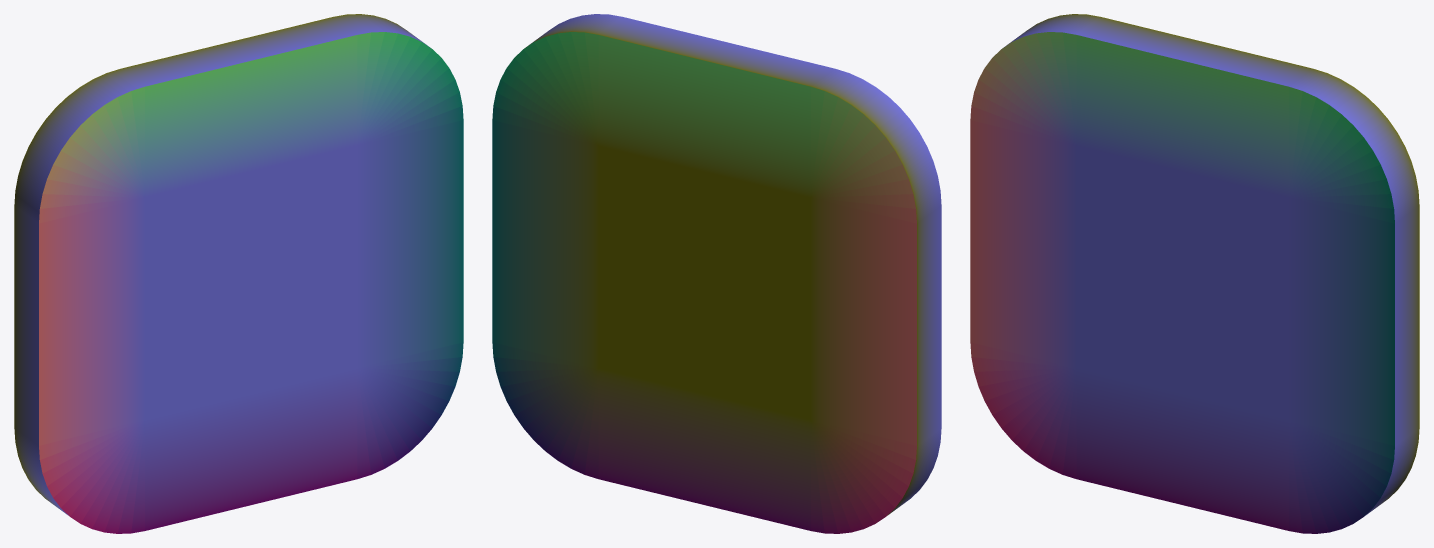
File: thick_rounded12.fbx
3 renders of one model, left to right at view 1: azimuth 30°, elevation 25°; view 2: azimuth 150°, elevation 25°; view 3: azimuth 330°, elevation 25°, orthographic.
Parts seen in each view (by area): view 1: rounded_edge; view 2: rounded_edge; view 3: rounded_edge.
Boxes of the visible parts, <box> form: rounded_edge: <box>14,14,463,533</box>; rounded_edge: <box>492,14,941,533</box>; rounded_edge: <box>970,14,1419,533</box>.
Size of the model in its own units: 1 by 1 by 0.1.
